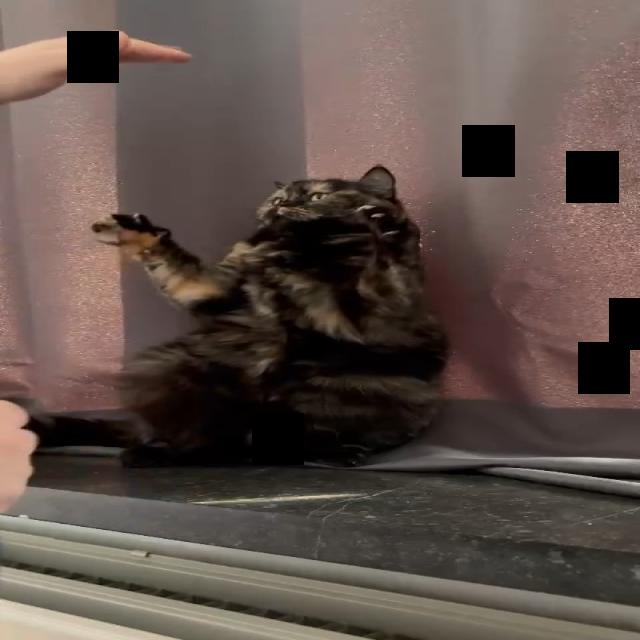authorized: (89, 164, 451, 468)
